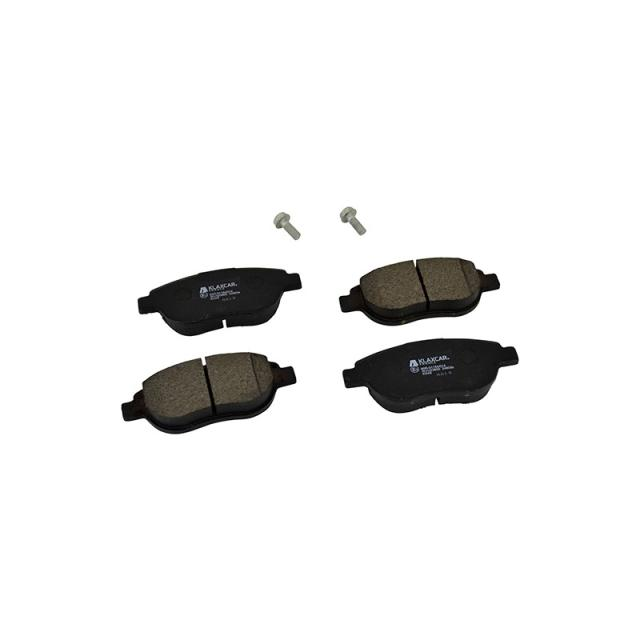brake_pad: (123, 350, 304, 456), (335, 331, 524, 423), (130, 260, 314, 337), (326, 260, 505, 324)
